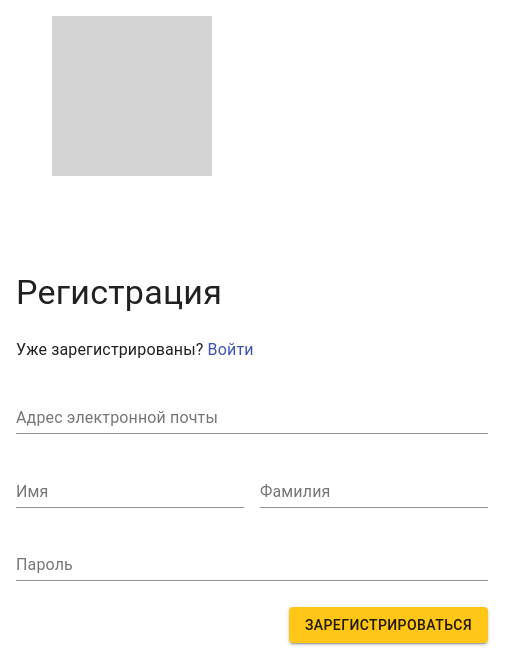
Test: Signup Component › При нажатии кнопки Регистрация невалидная форма не отправляется, выводятся соощения об ошибках
In the field labelled "Адрес электронной почты": (252, 418) [16,402,488,434], type "email@"
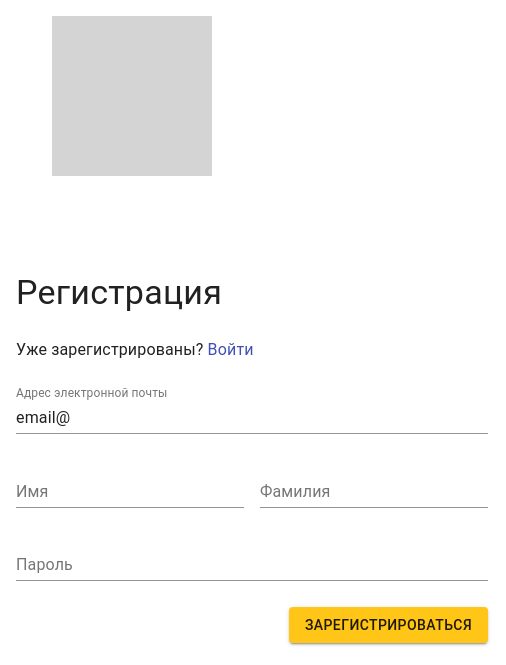
In the field labelled "Имя": (130, 492) [16,476,244,508], type "Mark"
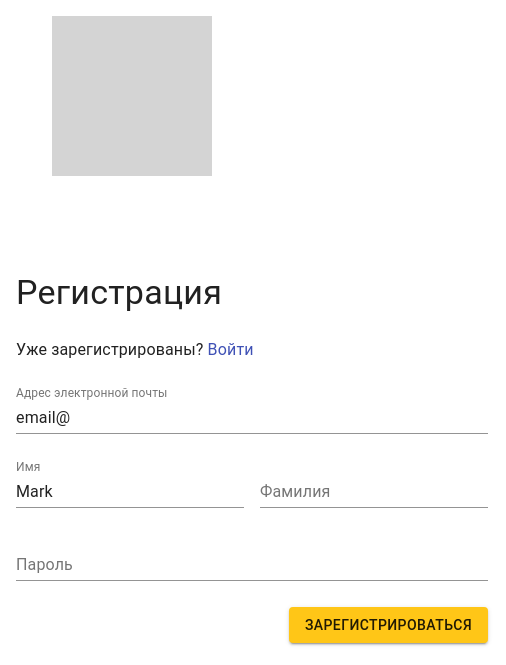
In the field labelled "Фамилия": (374, 492) [260,476,488,508], type "Cliff"
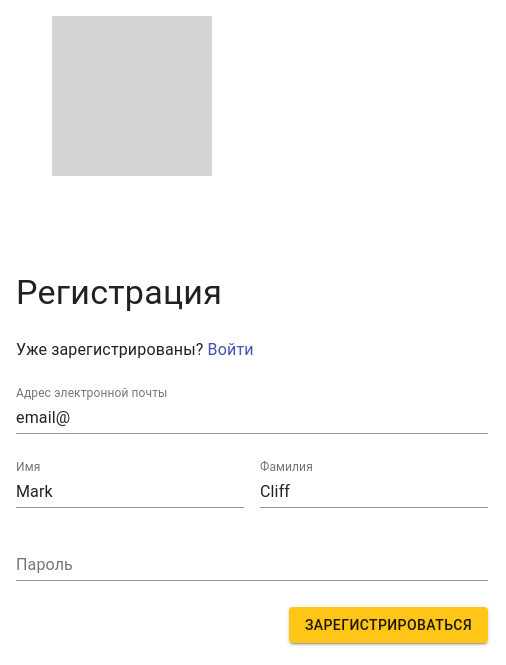
Click the button with test id "signupBtn": (388, 625) [289,607,488,643]
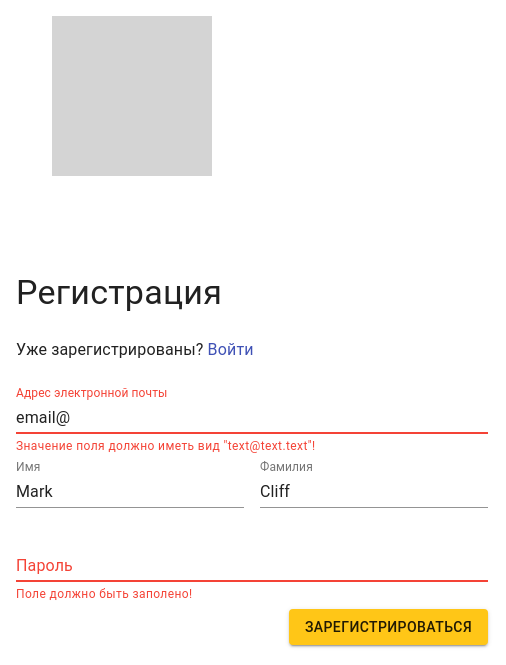
Check: the text "Поле должно быть заполено!" is shown, box [16,587,192,601]
Check: the text "Значение поля должно иметь вид \"text@text.text\"!" is shown, box [16,439,316,453]
